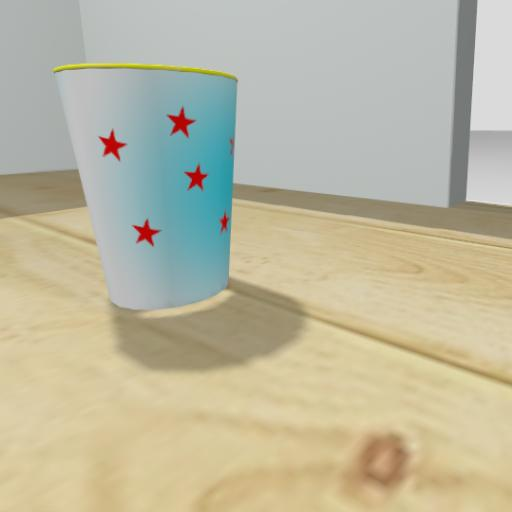Trash: (35, 50, 282, 350)
